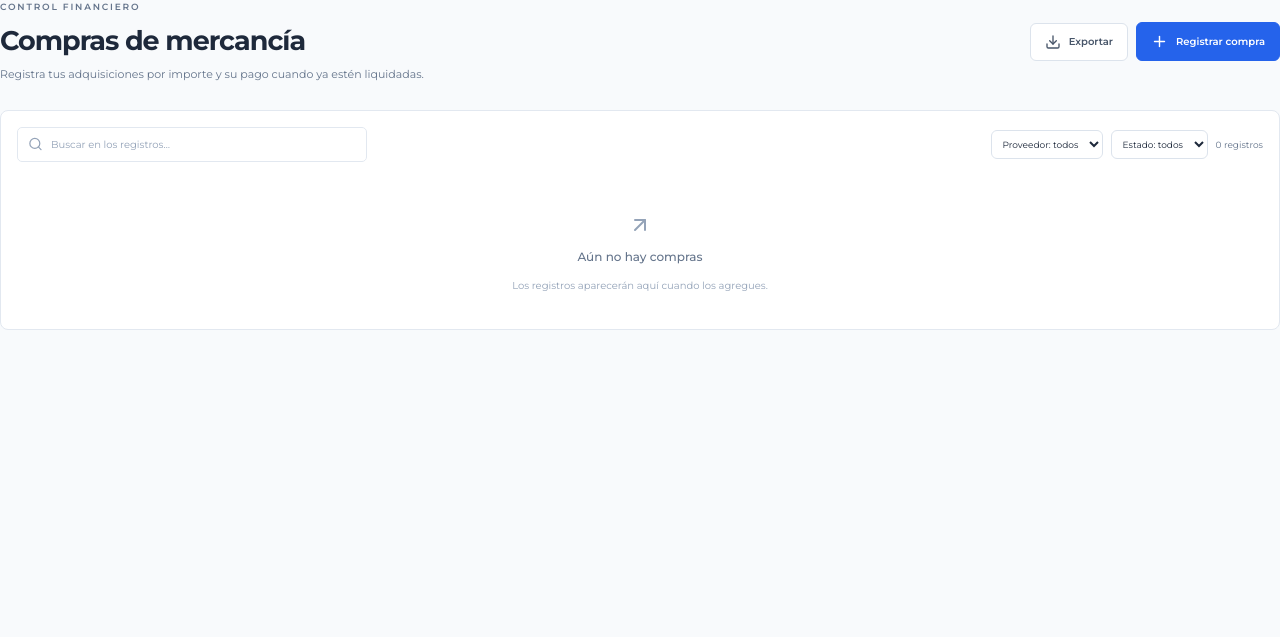
la compra por totales no incluye selectores de productos
What coordinates should you click on to do the following:
click the button "Registrar compra"
I would click on:
 (1208, 42)
Its box is [1136, 22, 1279, 61].
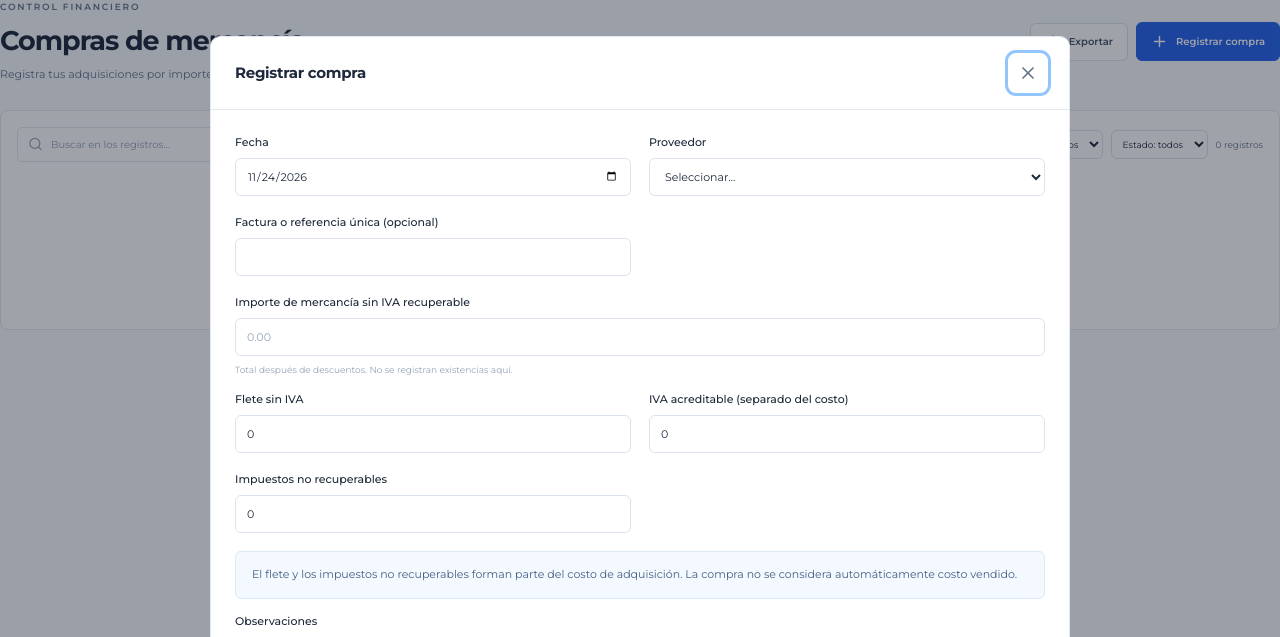
Check: the text "Importe de mercancía sin IVA recuperable" is shown, box [235, 295, 470, 309]
